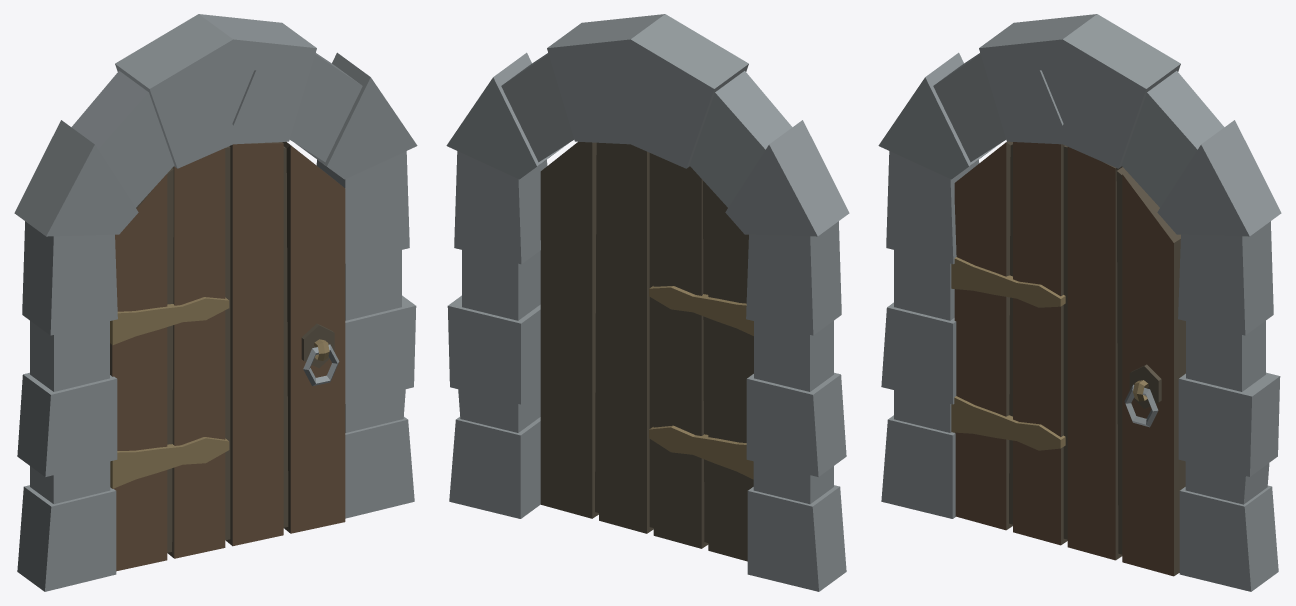
The model's file is Door_New.fbx.
3 views of the same model, side by side, from view 1: azimuth 30°, elevation 25°; view 2: azimuth 150°, elevation 25°; view 3: azimuth 330°, elevation 25° (orthographic).
Visible parts, largest first — view 1: DoorOut, Door; view 2: DoorOut, Door; view 3: DoorOut, Door.
Boxes of the visible parts, box(x1,y1,x2,y2) form: DoorOut: box(14, 14, 417, 591); Door: box(110, 141, 345, 571); DoorOut: box(446, 14, 849, 591); Door: box(540, 142, 753, 561); DoorOut: box(878, 14, 1281, 591); Door: box(951, 141, 1185, 576).
Size of the model in its own units: 166 by 217 by 33.57.
